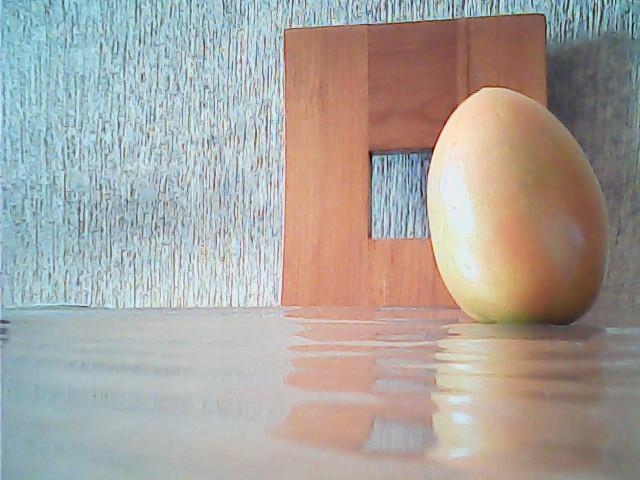verde: (429, 85, 609, 327)
